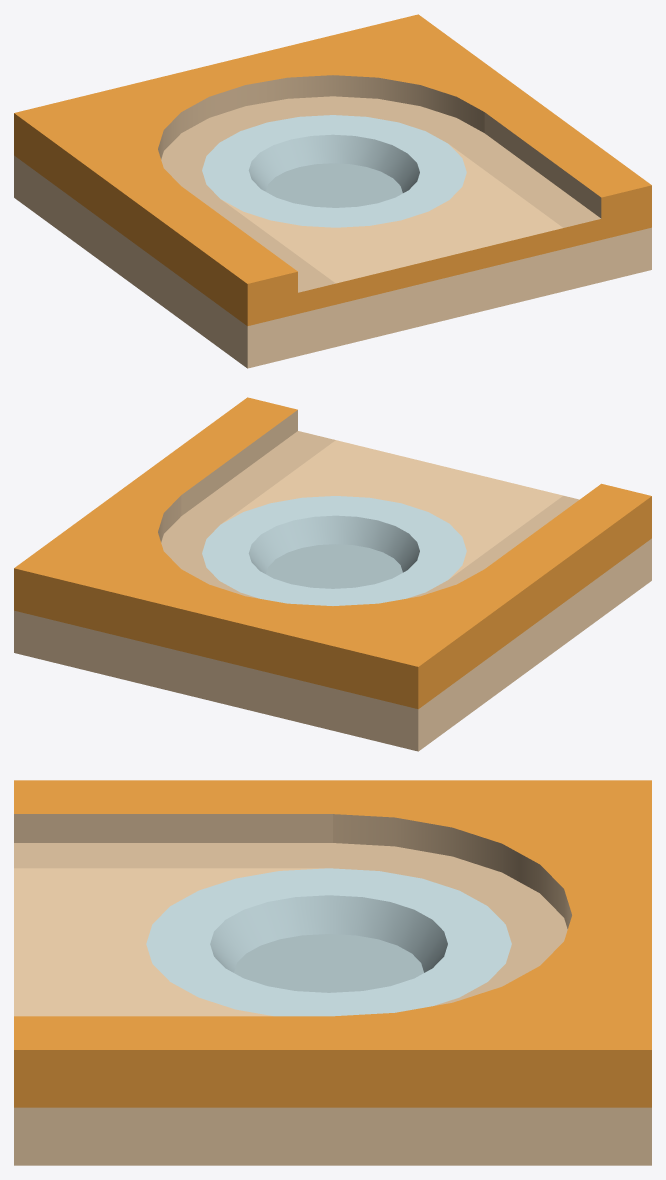
File: autumn_end_Round.fbx
3 renders of one model, top to bottom at view 1: azimuth 30°, elevation 25°; view 2: azimuth 150°, elevation 25°; view 3: azimuth 270°, elevation 25°, orthographic. The views are drawn at different scales.
Visible parts, largest first — view 1: tile_endRoundSpawn; view 2: tile_endRoundSpawn; view 3: tile_endRoundSpawn.
Part boxes in pixels (x1,y1,x2,y2): tile_endRoundSpawn: (14,14,651,368); tile_endRoundSpawn: (14,397,651,751); tile_endRoundSpawn: (14,780,651,1165).
Size of the model in its own units: 100 by 20 by 100.
